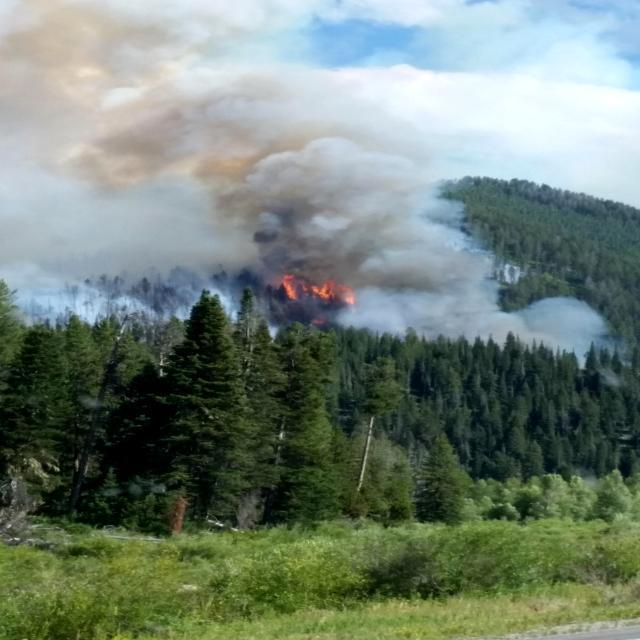Smoke: (0, 0, 597, 361)
